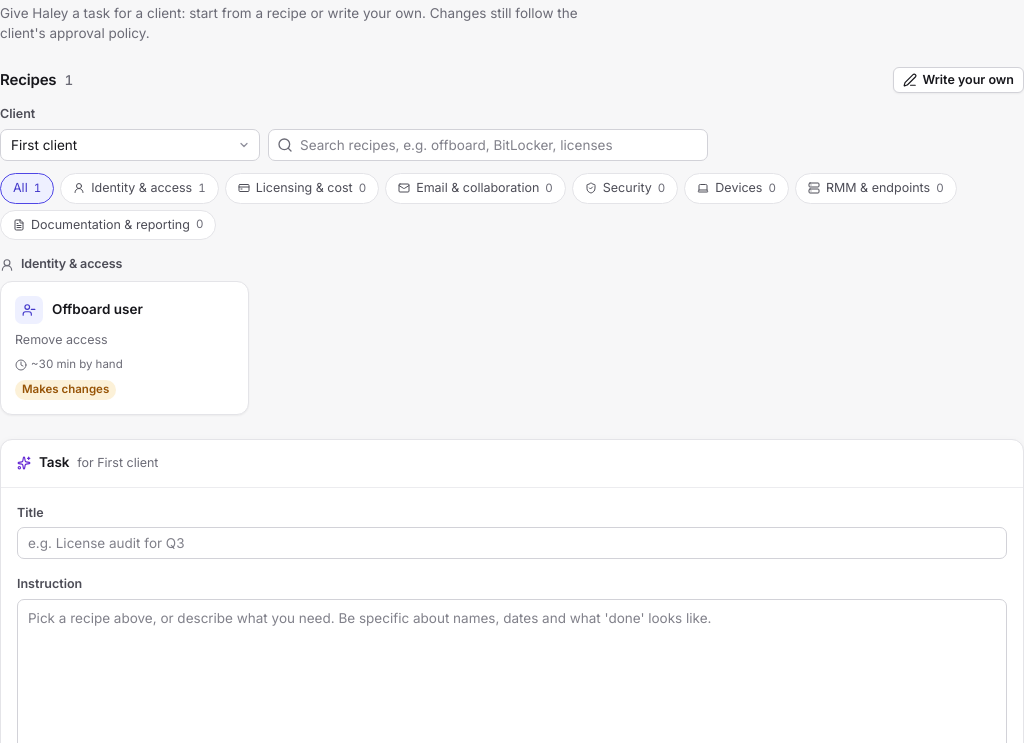
recipe availability › blocks a selected recipe while the new client's availability is loading or failed, and offers retry
The image size is (1024, 743).
Click the button with class "recipe". click: (124, 348)
box: [0,281,248,415]
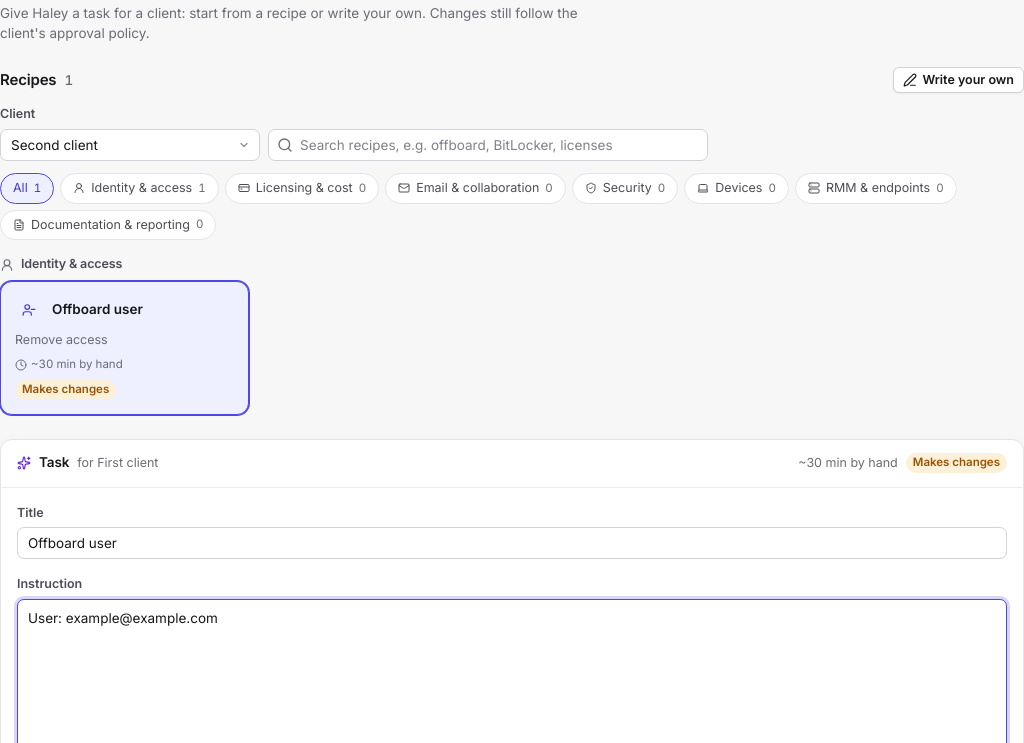
Select "Second client" in the dropdown with id "task-org". click: (130, 145)
box: [0,129,260,161]
(page scrolled)
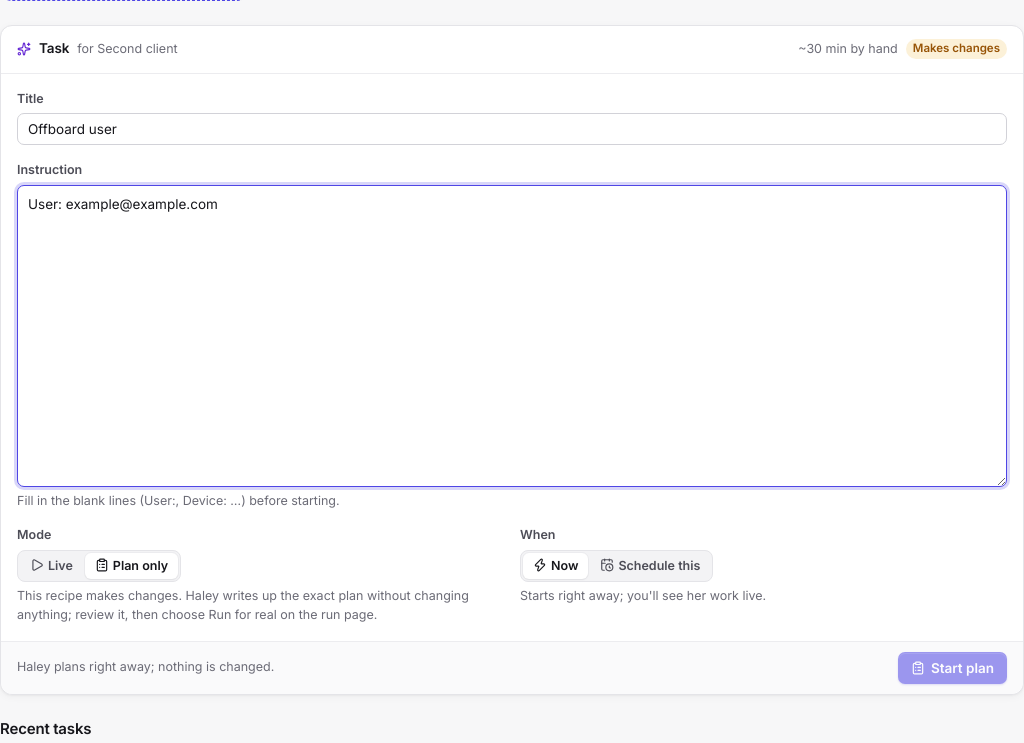
Check: the submit button is disabled, box [898,652,1007,684]
Submit the form
(page scrolled)
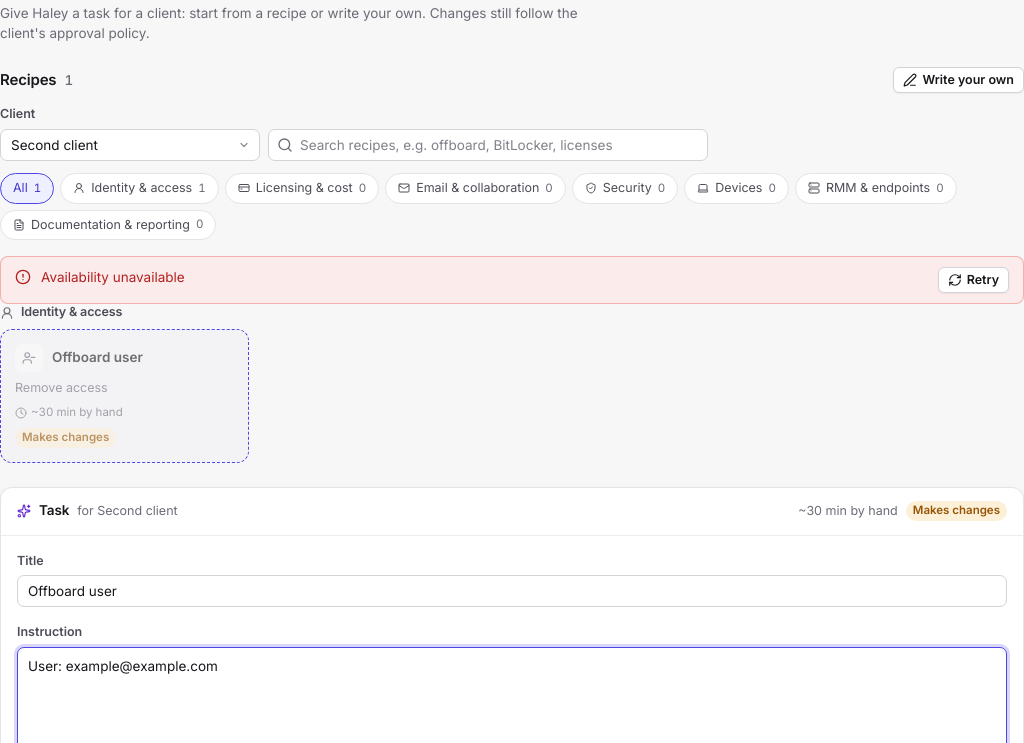
Check: the text "Availability unavailable" is shown, box [41,269,185,285]
Check: the text "Retry" is shown
Click the button "Retry". click: (973, 280)
box: [938,267,1009,293]
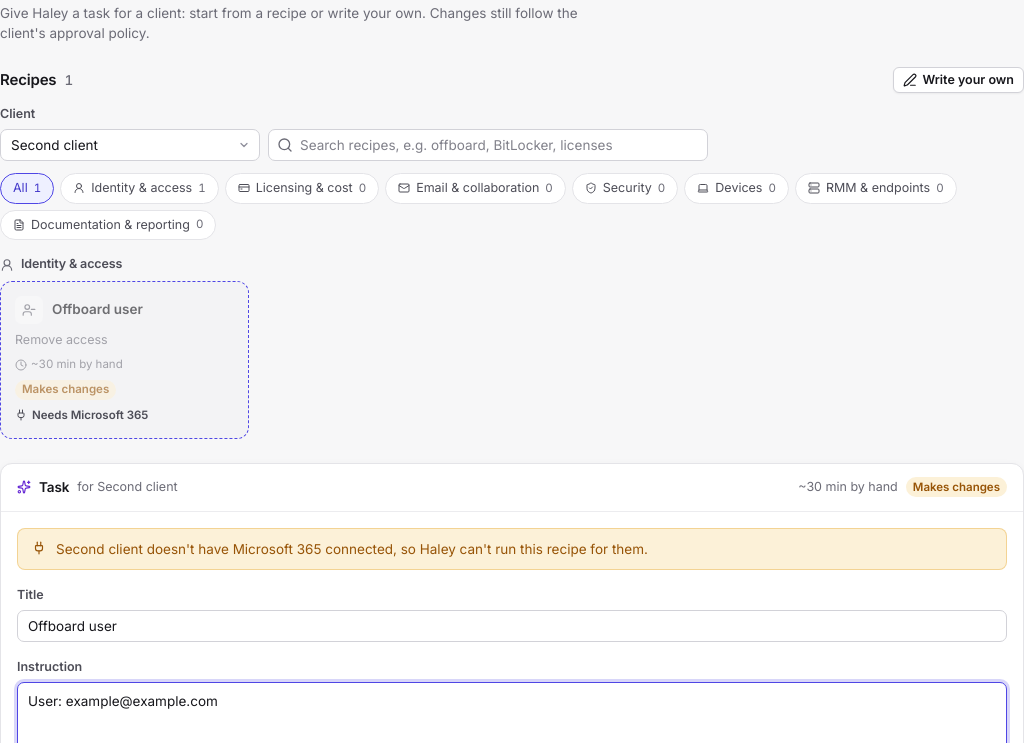
Check: the text "Second client doesn't have Microsoft 365 connected" is shown, box [56,539,648,559]
Click the button "Write your own". click: (959, 80)
box: [894,67,1023,93]
(page scrolled)
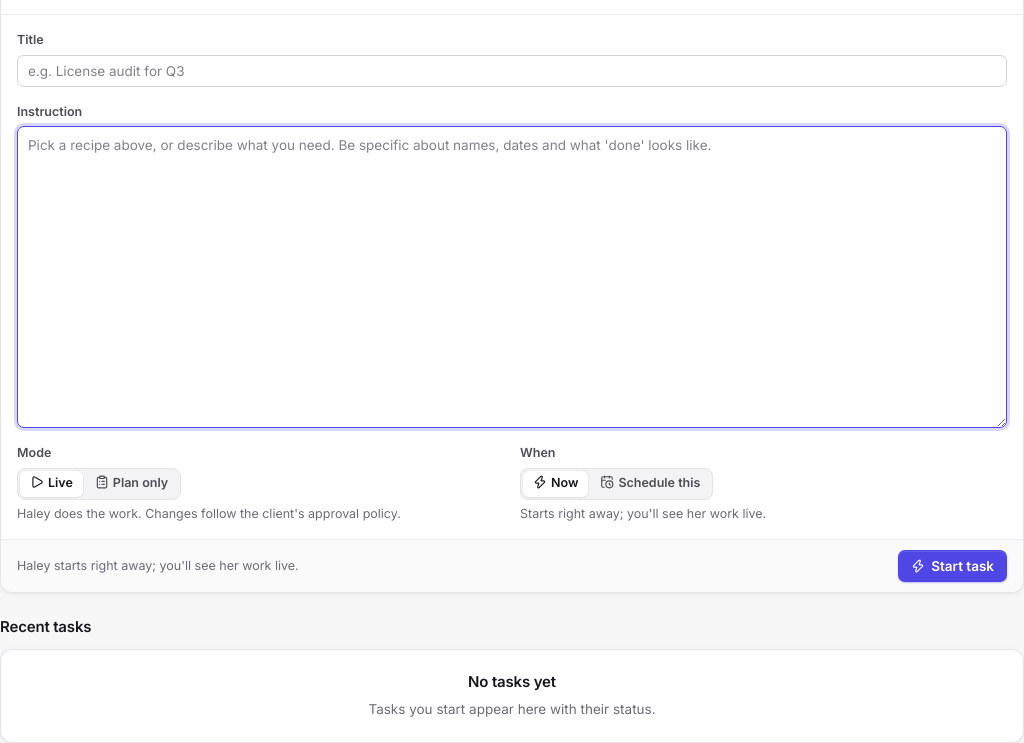
Check: the button "Start task" is enabled, box [898,550,1007,582]
